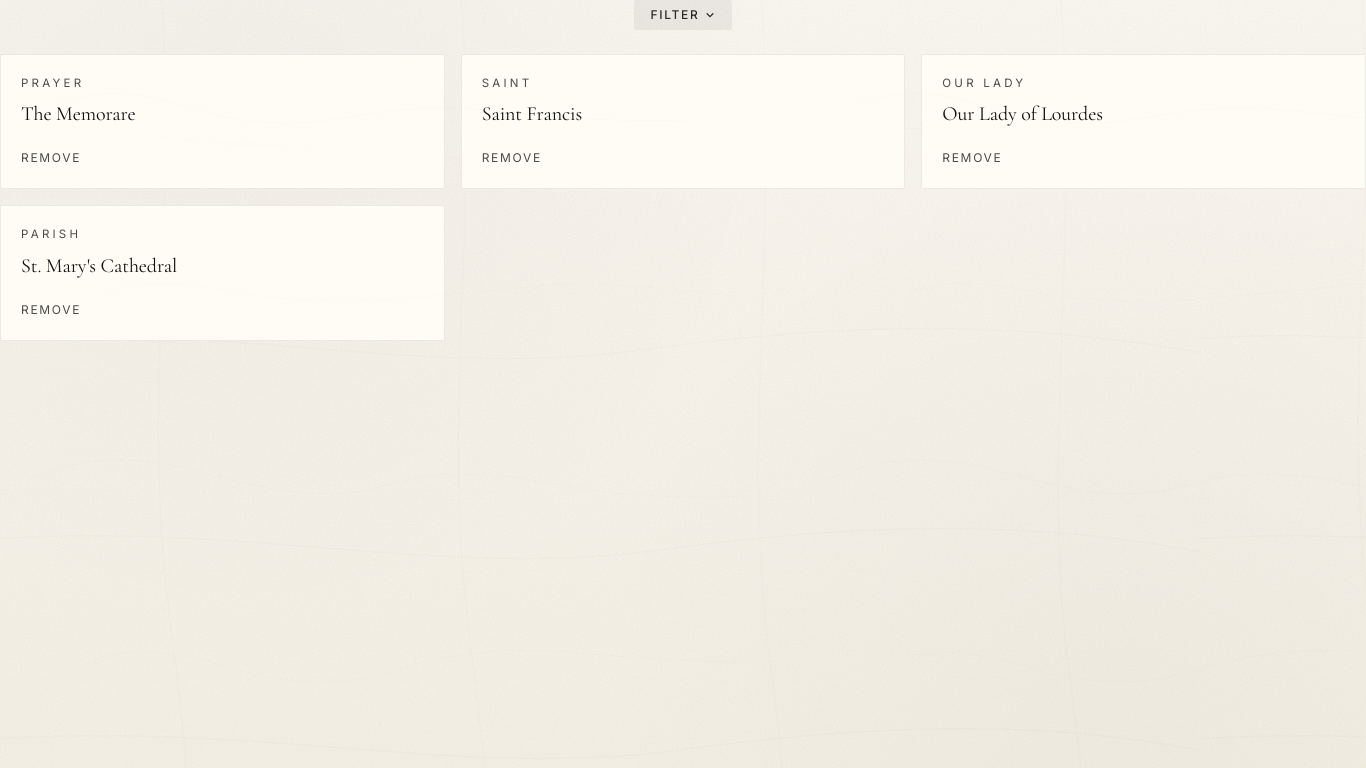
Test case: FavoritesBrowser › supports favorited parishes under the Parishes tab
Click the button with aria-label "Filter favorites by type" at (683, 15), box [634,0,732,30]
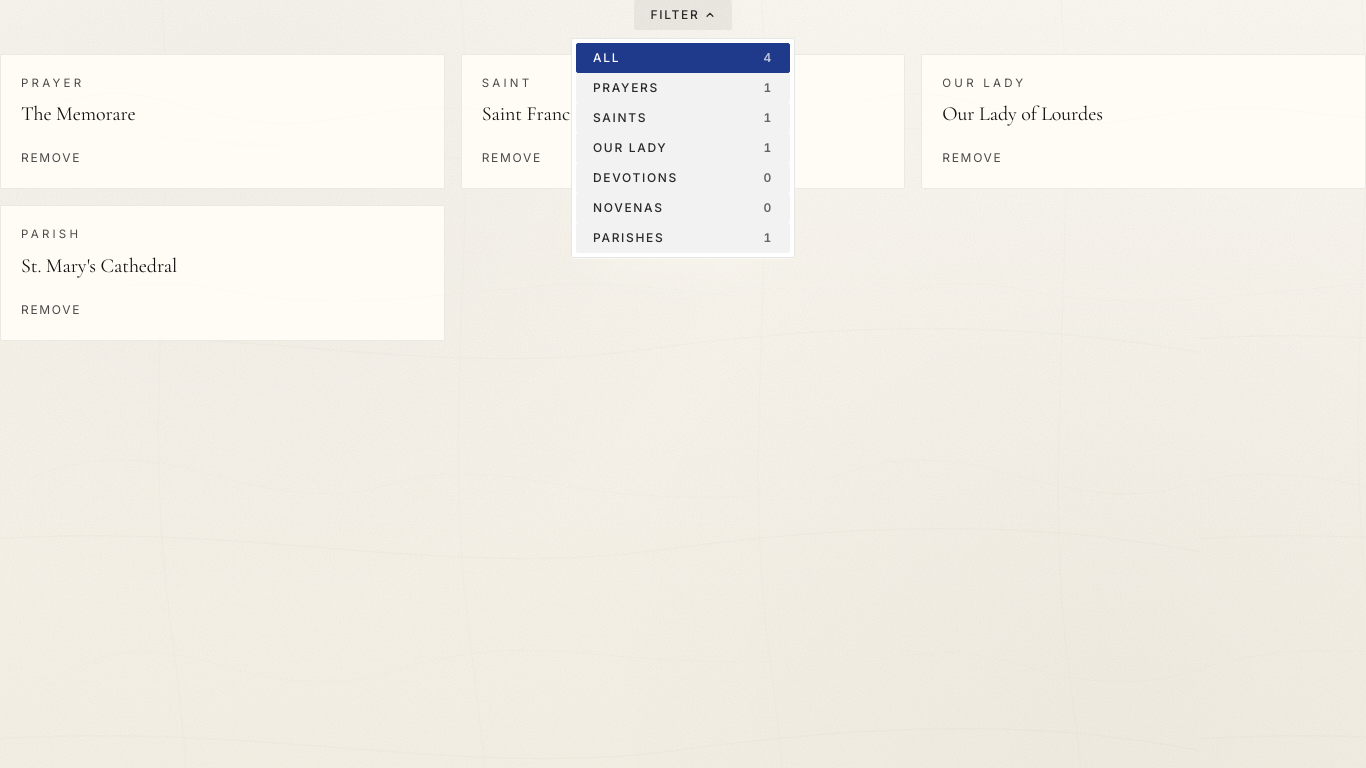
Click the option "Parishes 1" at (683, 238), box [576,223,790,253]
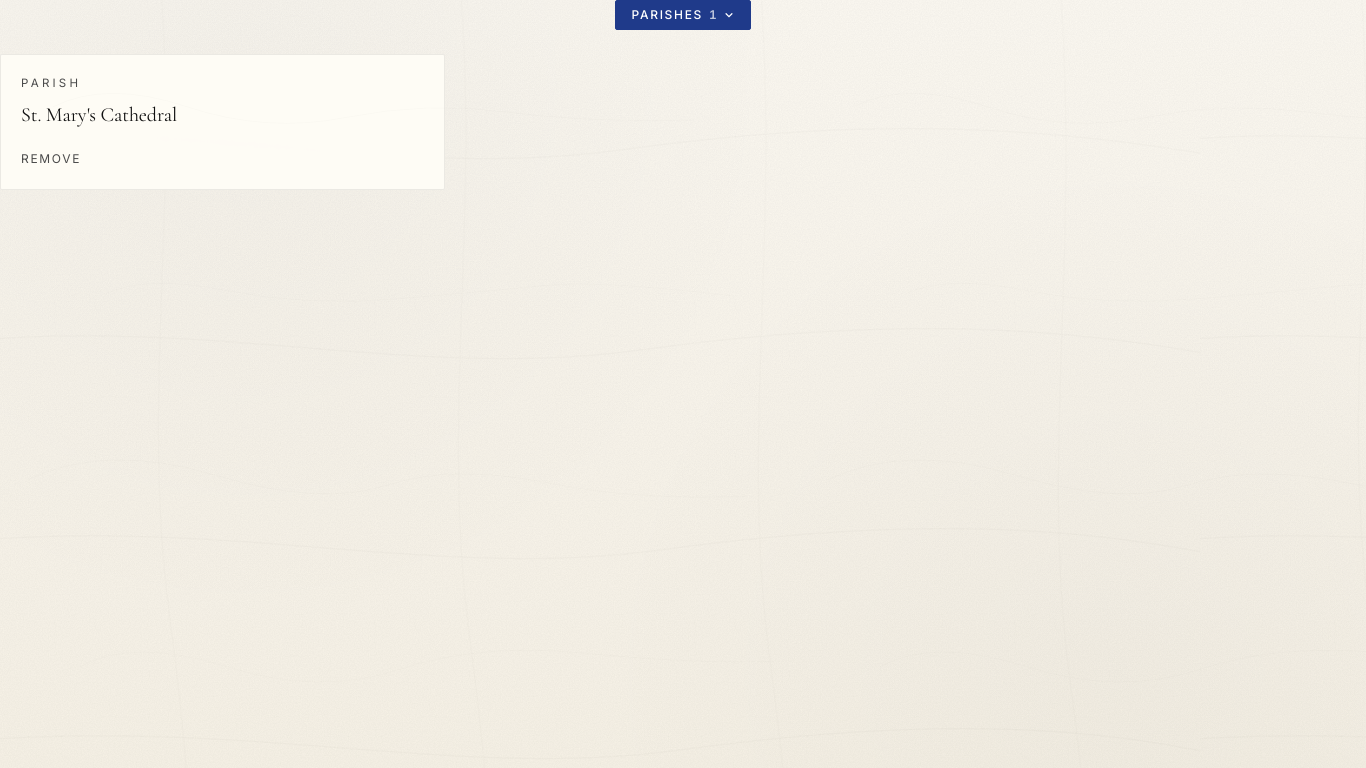
Expected: the heading "St. Mary's Cathedral" is shown, [21,102,177,126]
Result: the link "The Memorare" is gone
